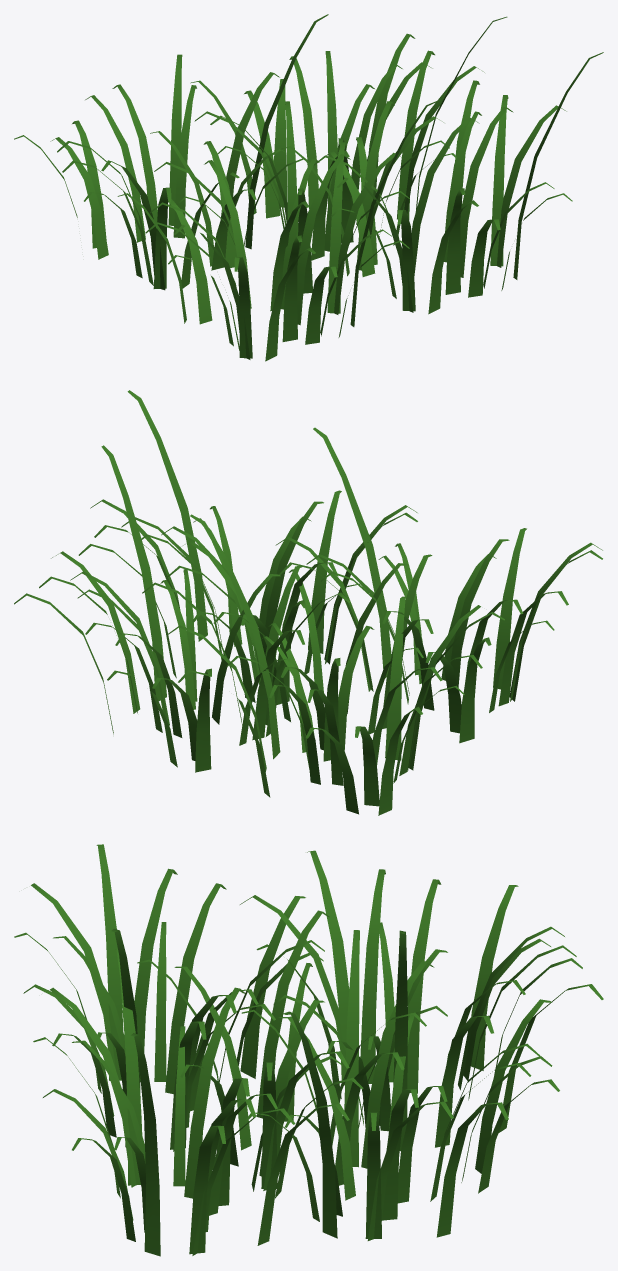
The model's file is model_matagal1_01.fbx.
3 renders of one model, top to bottom at view 1: azimuth 30°, elevation 25°; view 2: azimuth 150°, elevation 25°; view 3: azimuth 270°, elevation 25°, orthographic. The views are drawn at different scales.
Parts seen in each view (by area): view 1: Plane.002; view 2: Plane.002; view 3: Plane.002.
Boxes of the visible parts, x1,y1,x2,y2 form: Plane.002: [14, 14, 603, 361]; Plane.002: [14, 390, 602, 815]; Plane.002: [14, 844, 603, 1256].
Size of the model in its own units: 3.47 by 1.61 by 3.19.
